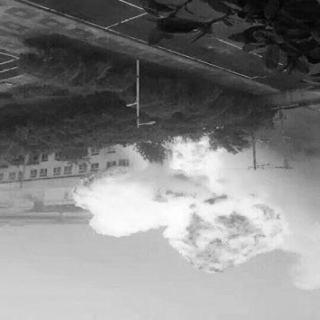Smoke: (292, 154, 316, 278)
